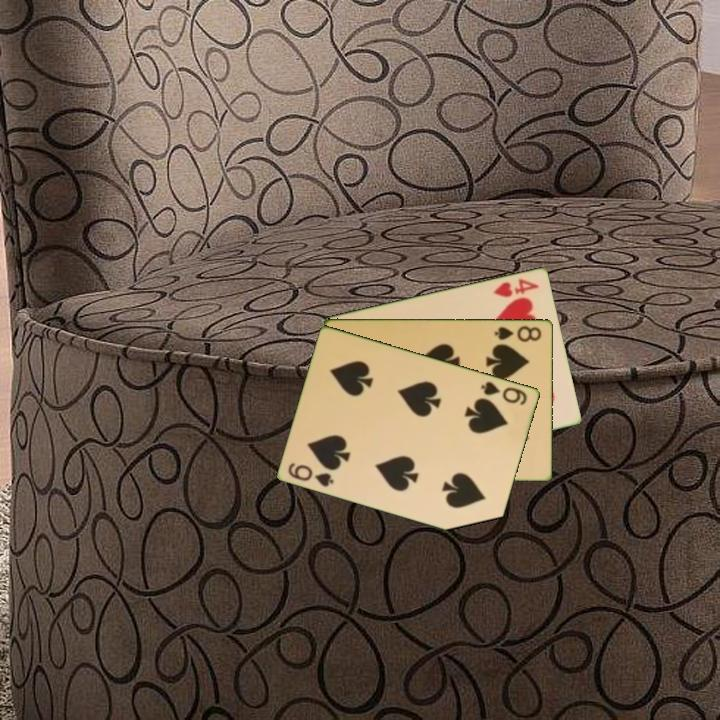4h: (490, 275, 542, 300)
6s: (285, 459, 337, 490), (478, 378, 530, 408)
8s: (491, 322, 545, 345)
